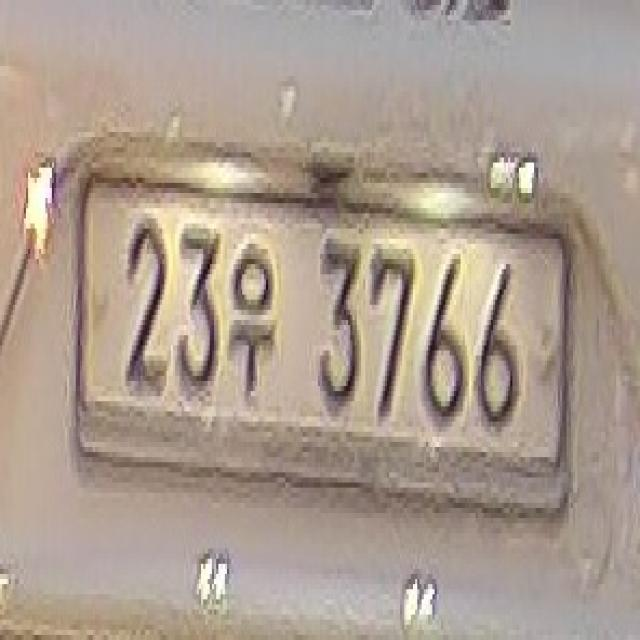2: (124, 207, 170, 396)
3: (175, 210, 222, 403), (318, 230, 362, 424)
6: (418, 236, 469, 433), (476, 244, 524, 446)
7: (366, 233, 416, 428)
license_plate: (83, 188, 570, 505)
u: (233, 234, 278, 400)
